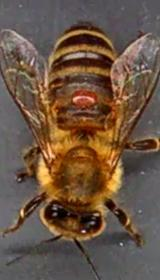varroa_mite: (62, 85, 106, 112)
